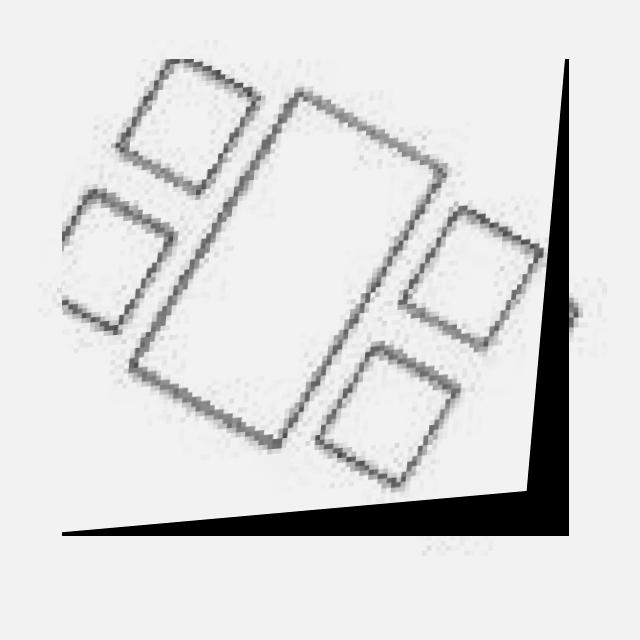table: (62, 59, 569, 536)
